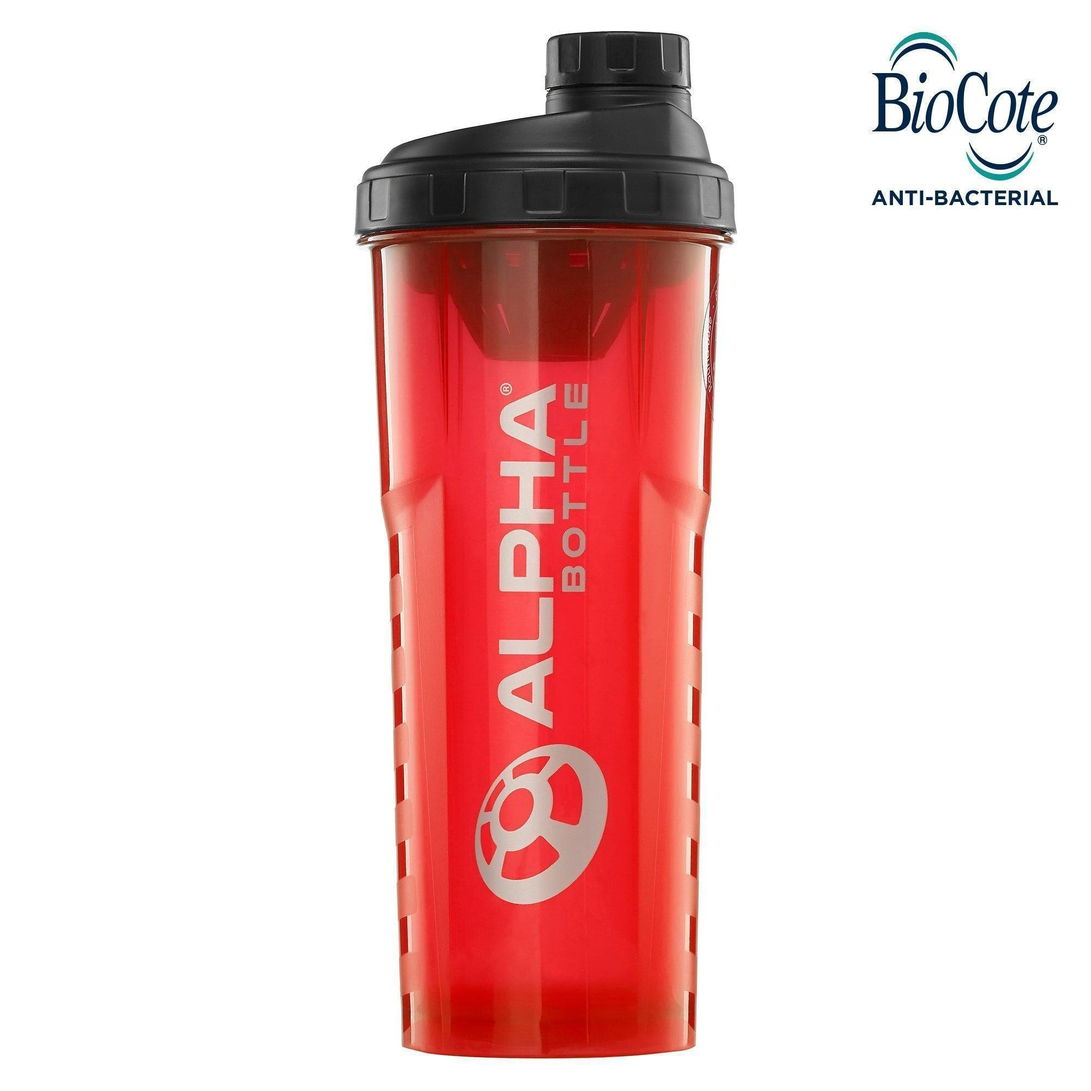gym bottle: (349, 14, 742, 1072)
